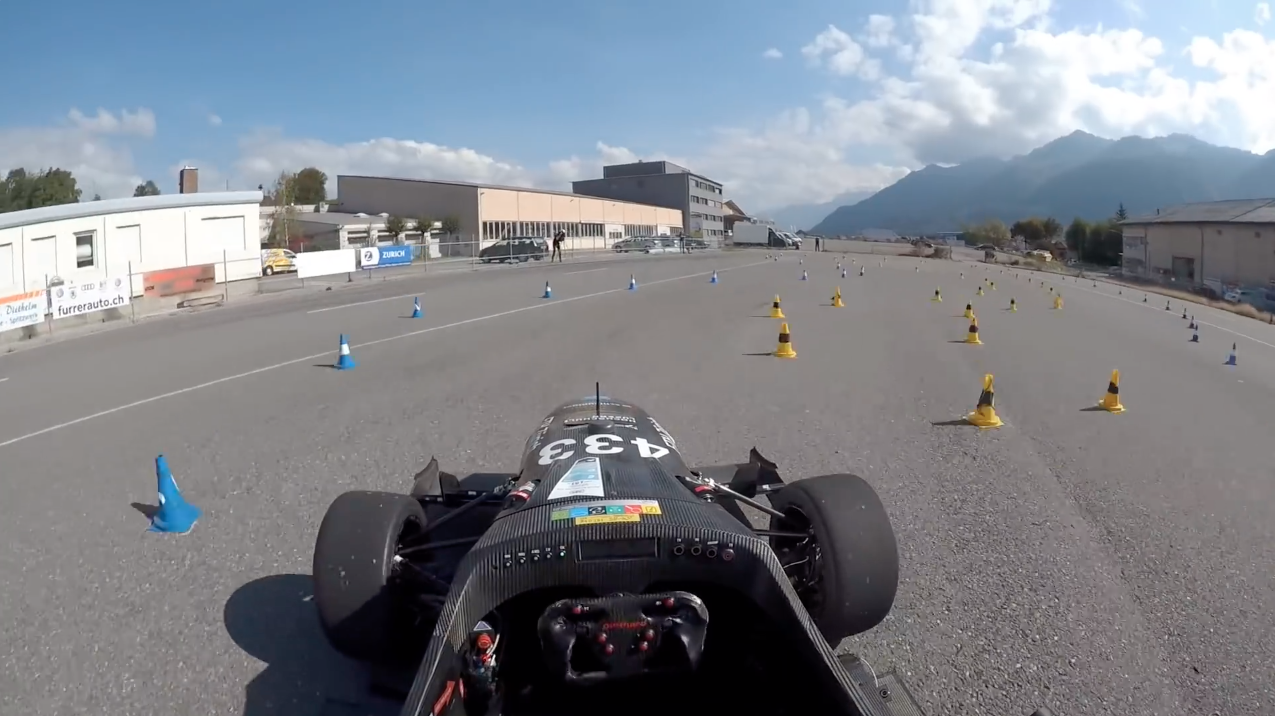lcone: (140, 446, 210, 540), (326, 331, 361, 372)
rcone: (957, 369, 1010, 435), (1091, 368, 1130, 418), (766, 318, 804, 361)
